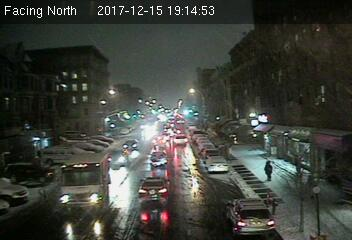car: (226, 198, 275, 238), (138, 199, 172, 226), (139, 177, 168, 196), (205, 155, 230, 172), (148, 150, 170, 167), (109, 149, 128, 166), (173, 133, 190, 146), (122, 139, 140, 150)
pedestrian: (264, 159, 273, 182)
ups: (60, 153, 112, 209)
